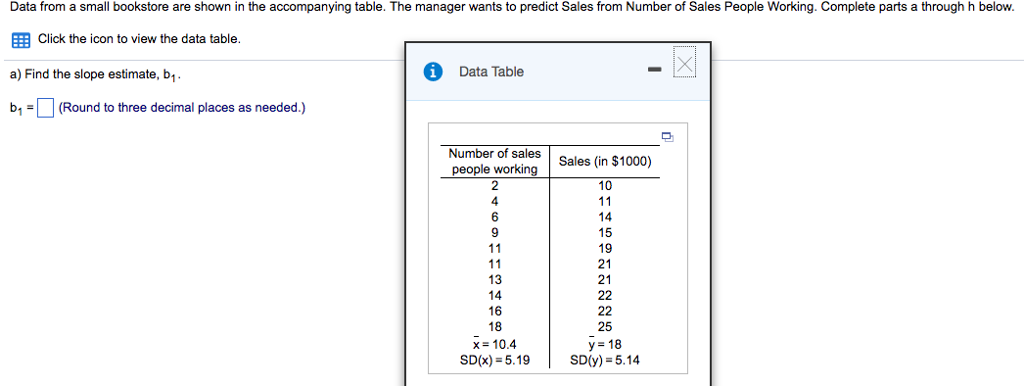fracking table: (436, 143, 668, 373)
